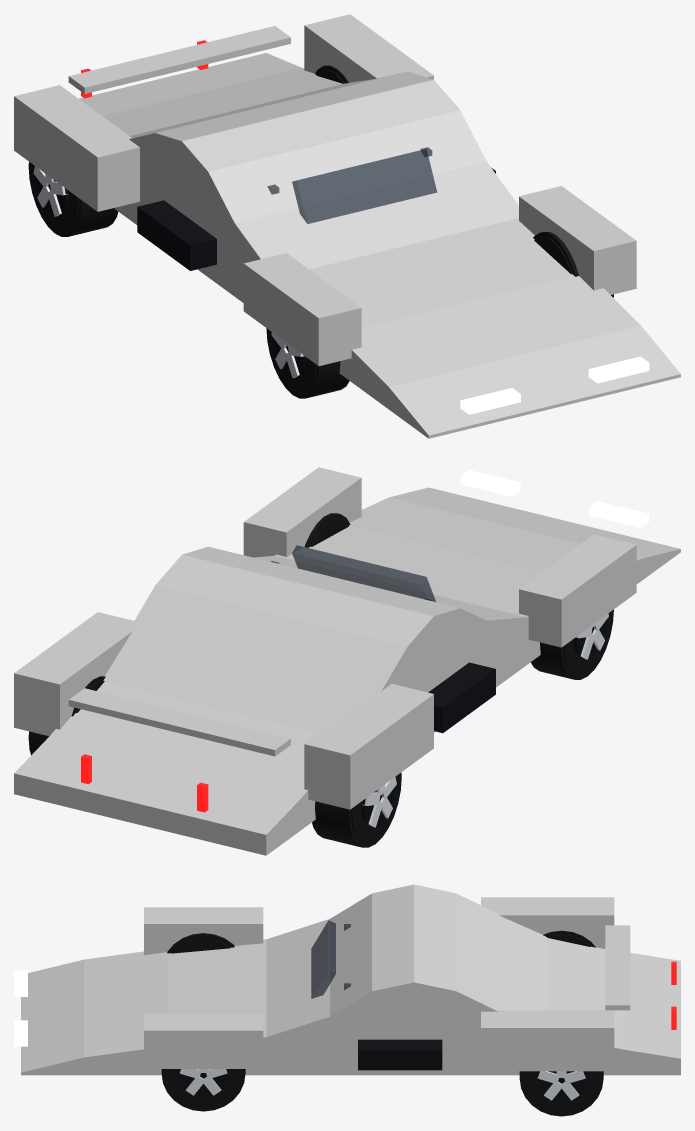
File: ferocity-manticore.glb
3 renders of one model, top to bottom at view 1: azimuth 30°, elevation 25°; view 2: azimuth 150°, elevation 25°; view 3: azimuth 270°, elevation 25°, orthographic. The views are drawn at different scales.
Parts seen in each view (by area): view 1: chassis, glass, wheel-back-left, wheel-front-left, wheel-front-right; view 2: chassis, wheel-back-left, glass, wheel-front-left, wheel-front-right; view 3: chassis, wheel-back-right, wheel-front-right, glass, wheel-front-left, wheel-back-left.
Boxes of the visible parts, x1,y1,x2,y2 form: chassis: (14, 14, 680, 438); glass: (292, 149, 436, 223); wheel-back-left: (28, 162, 118, 236); wheel-front-left: (266, 328, 349, 398); wheel-front-right: (533, 232, 613, 297); chassis: (14, 467, 680, 855); wheel-back-left: (312, 772, 401, 847); glass: (292, 545, 435, 601); wheel-front-left: (530, 609, 613, 679); wheel-front-right: (304, 513, 350, 547); chassis: (14, 884, 680, 1075); wheel-back-right: (519, 1071, 603, 1116); wheel-front-right: (161, 1069, 245, 1111); glass: (311, 920, 335, 998); wheel-front-left: (167, 933, 234, 953); wheel-back-left: (543, 930, 595, 947).
Size of the model in its own units: 2.2 by 0.95 by 4.75.
